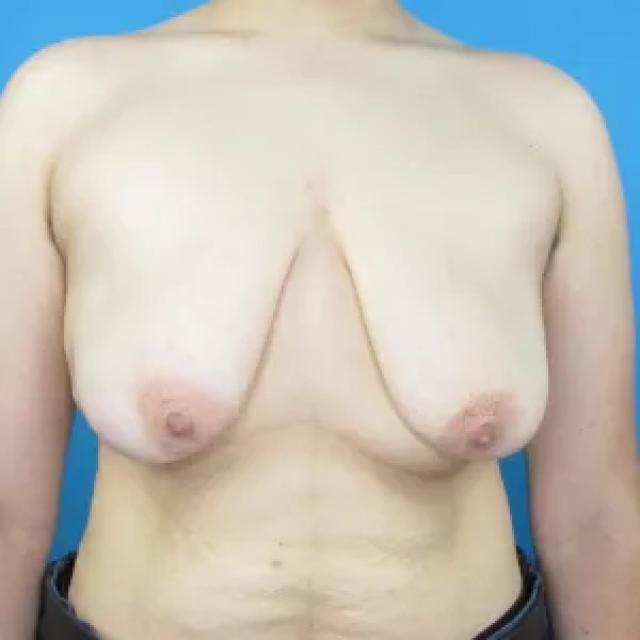Seno ileso: (55, 195, 317, 482), (320, 195, 556, 478)
